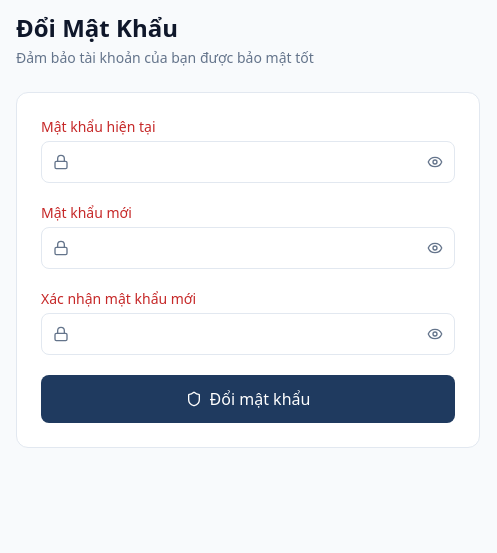
Test: SettingsPasswordPage › shows password strength meter when typing
Type "StrongPass@1" into the password field with test id "new-password-input". click: (248, 248)
box: [41,227,455,269]
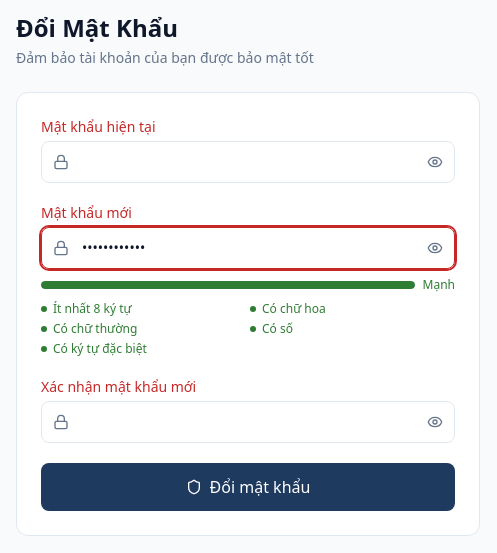
Now the text "Mạnh" is shown, box [422,277,455,293]
